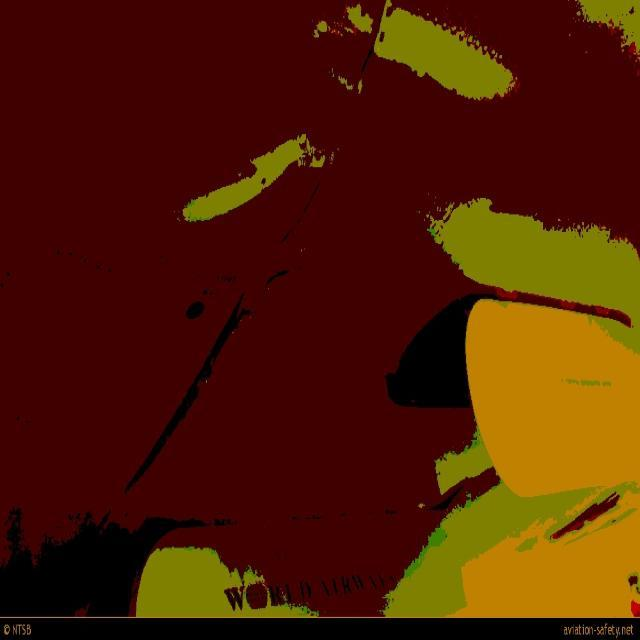crack: (125, 287, 249, 494)
